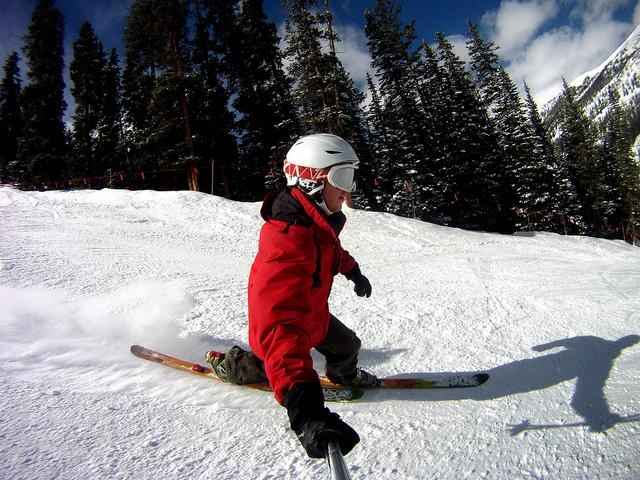person: (209, 131, 382, 448)
